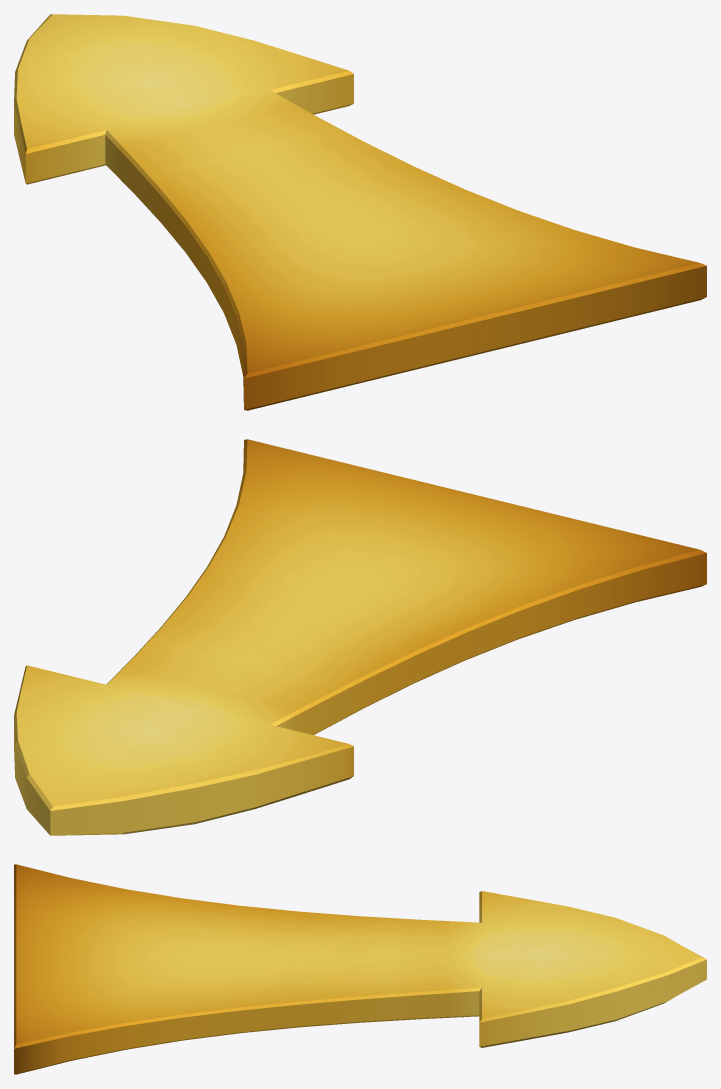
The model's file is fangxiangbiao.FBX.
The picture shows the model from 3 angles, top to bottom: view 1: azimuth 30°, elevation 25°; view 2: azimuth 150°, elevation 25°; view 3: azimuth 270°, elevation 25°; orthographic projection. The views are drawn at different scales.
Parts seen in each view (by area): view 1: bt_fangxiangbiao; view 2: bt_fangxiangbiao; view 3: bt_fangxiangbiao.
Boxes of the visible parts, x1,y1,x2,y2 form: bt_fangxiangbiao: [14, 14, 706, 410]; bt_fangxiangbiao: [14, 439, 706, 835]; bt_fangxiangbiao: [14, 864, 706, 1074].
Size of the model in its own units: 3.07 by 0.259 by 4.89.
